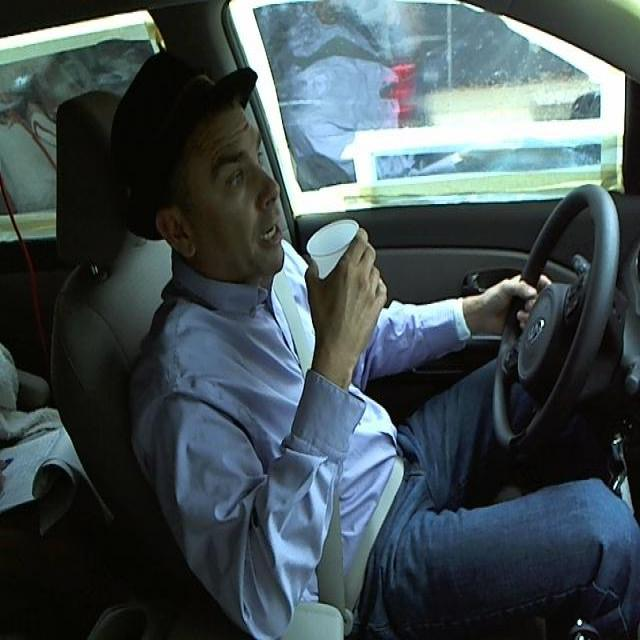drinking: (306, 212, 376, 340)
